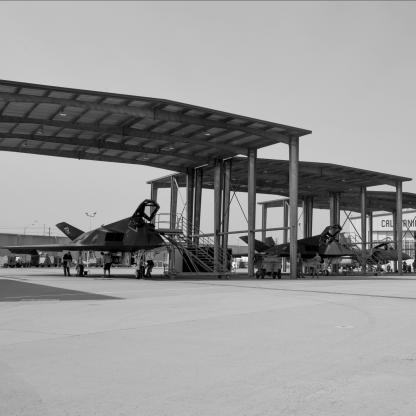F117: (2, 200, 174, 280), (239, 225, 360, 277)
F15: (340, 234, 412, 273)
